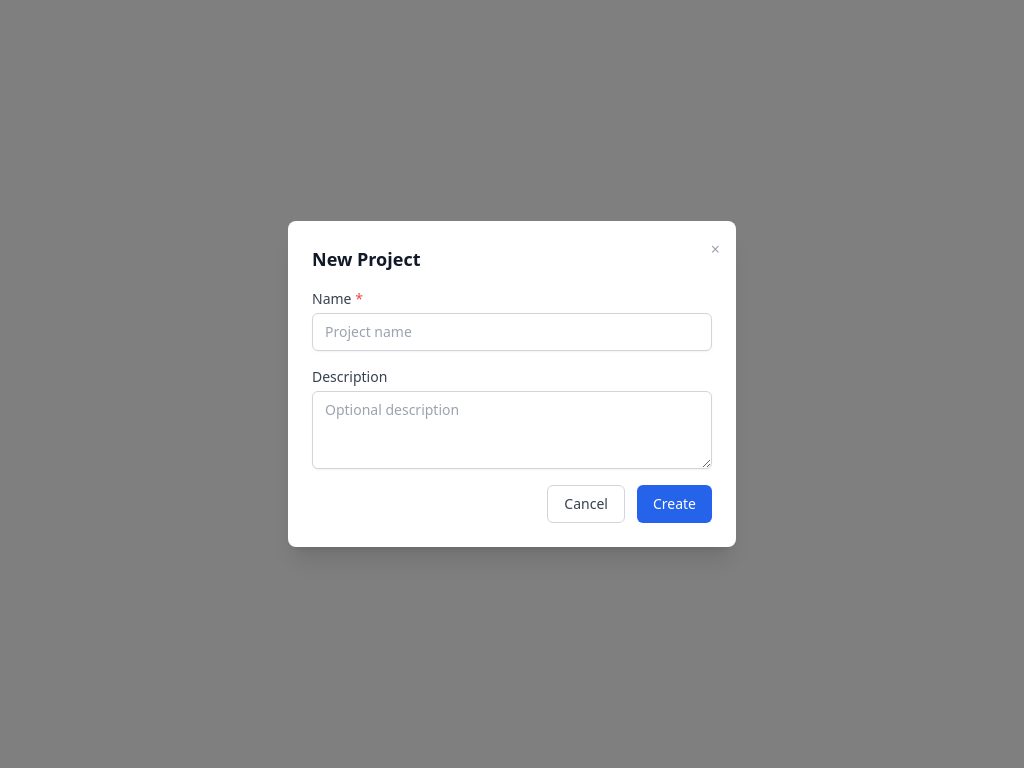
Test case: ProjectFormModal › disables submit button during submission
Type "New Project" into the field labelled "Name *" at [512, 332], box 312,313 -> 712,351
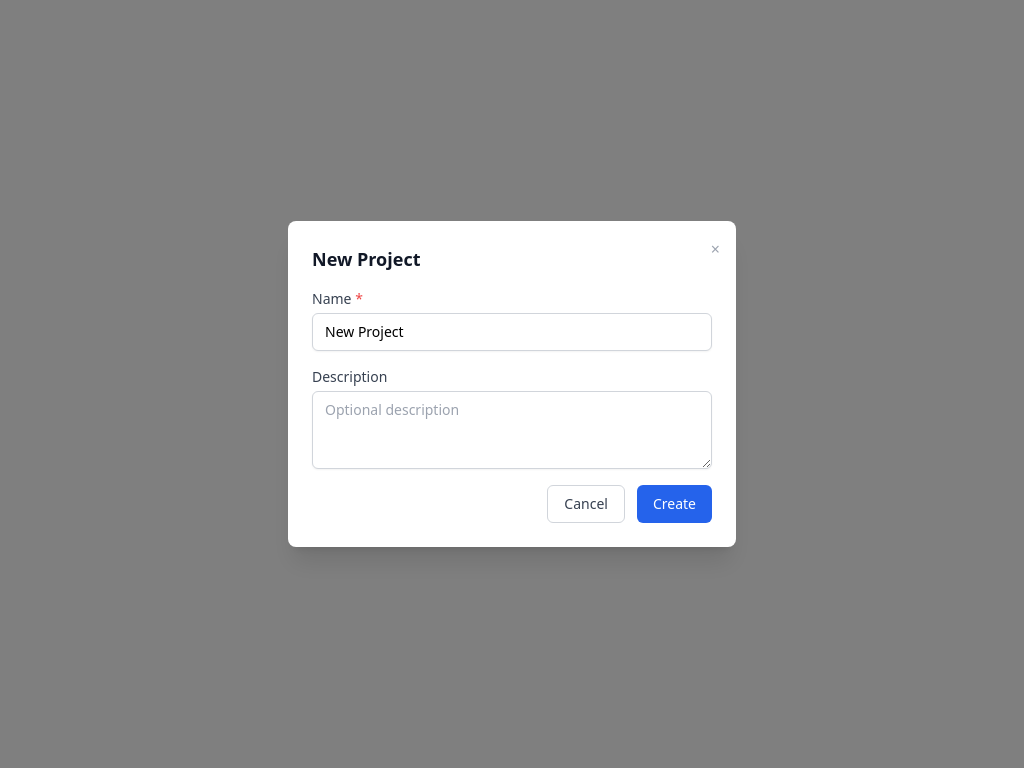
Click the button "Create" at [674, 504], box 637,485 -> 712,523
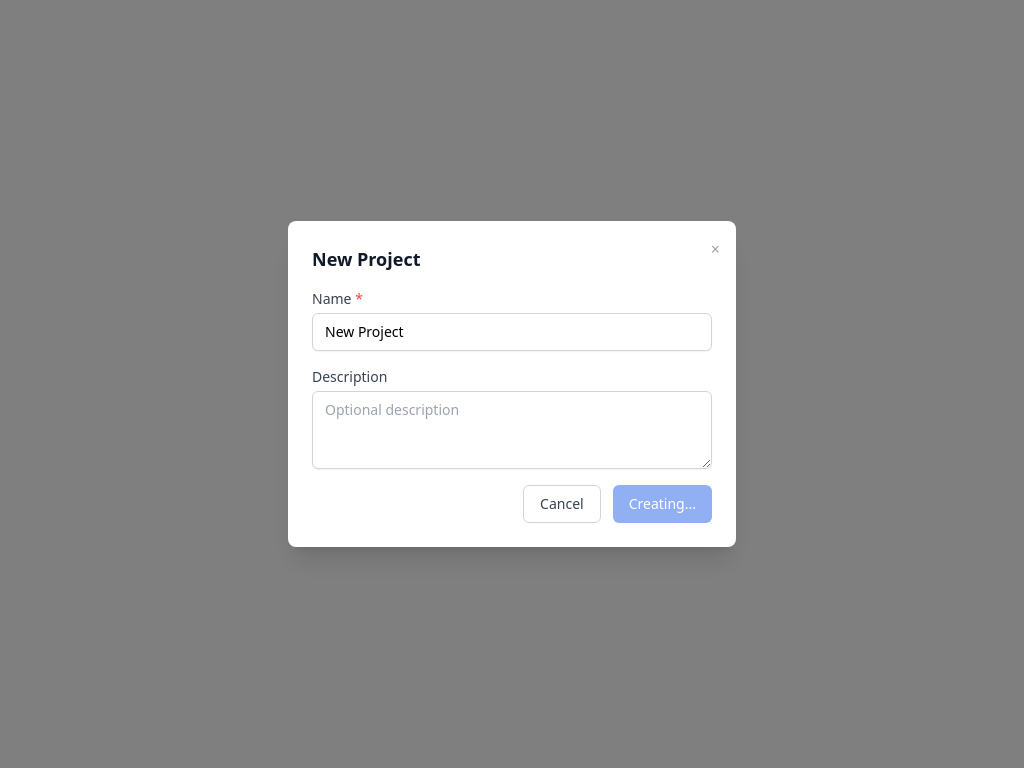
Result: the button named "Create" is disabled at 613,485 -> 712,523
Result: the button named "Create" reads "Creating..." at 613,485 -> 712,523
